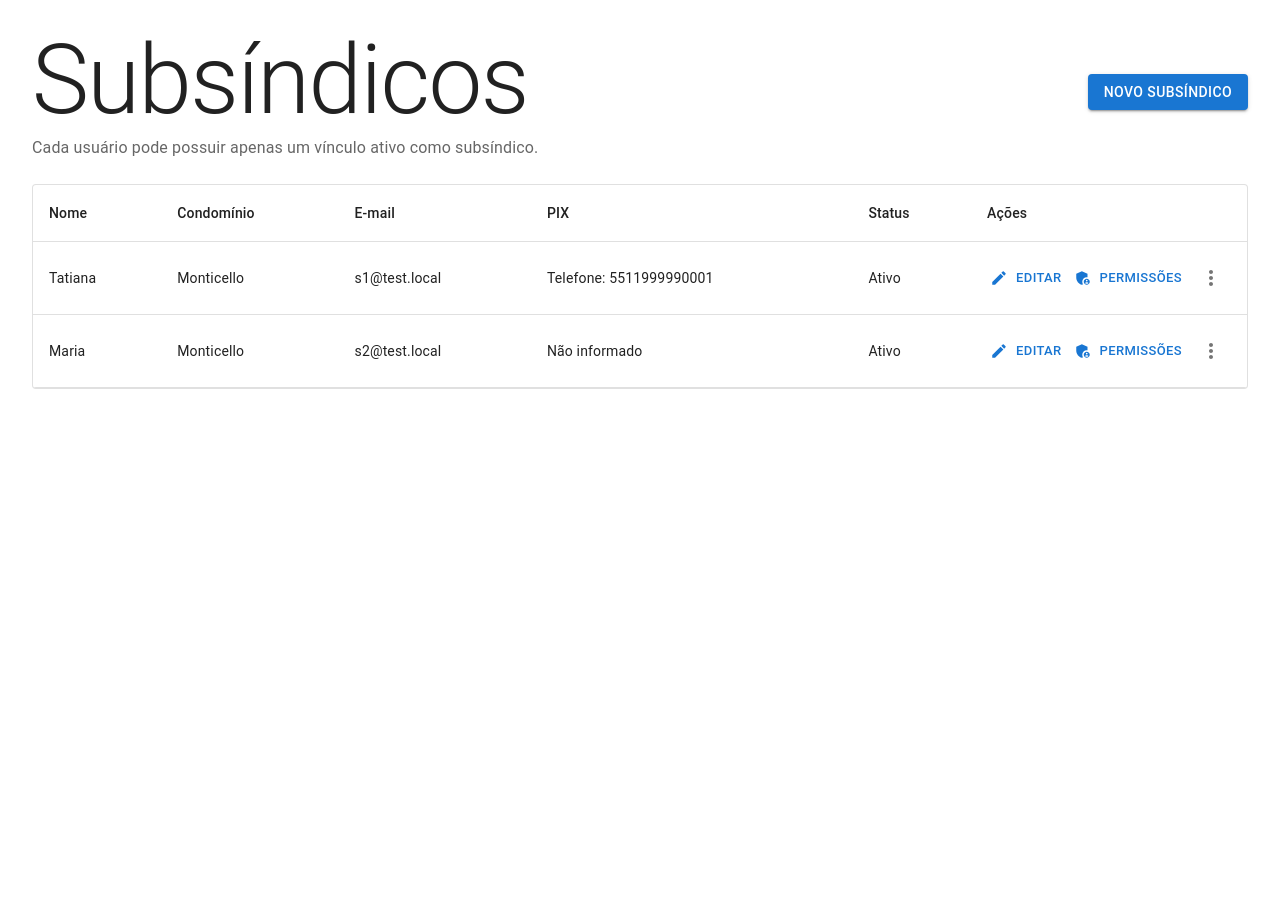
Test case: OverwatchSubManagersPage row isolation › does not delete a row rejected by eligibility
Expected: the text "Tatiana" is shown, x1=33 y1=242 x2=161 y2=314
Step 1. Click the button named "Mais" → (1211, 278), box x1=1191 y1=258 x2=1231 y2=298
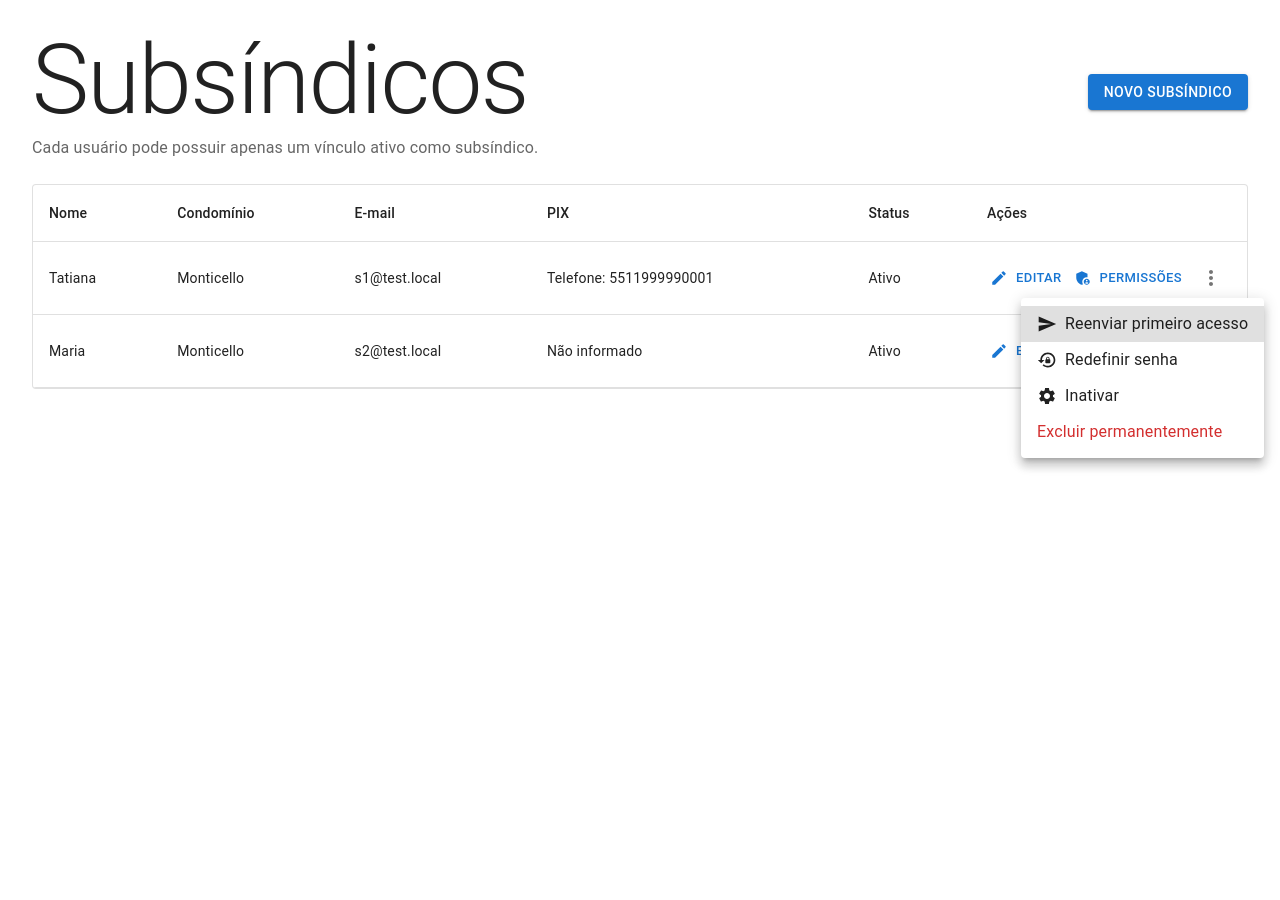
Step 2. Click the menu item "Excluir permanentemente" → (1130, 432), box x1=1037 y1=422 x2=1222 y2=441
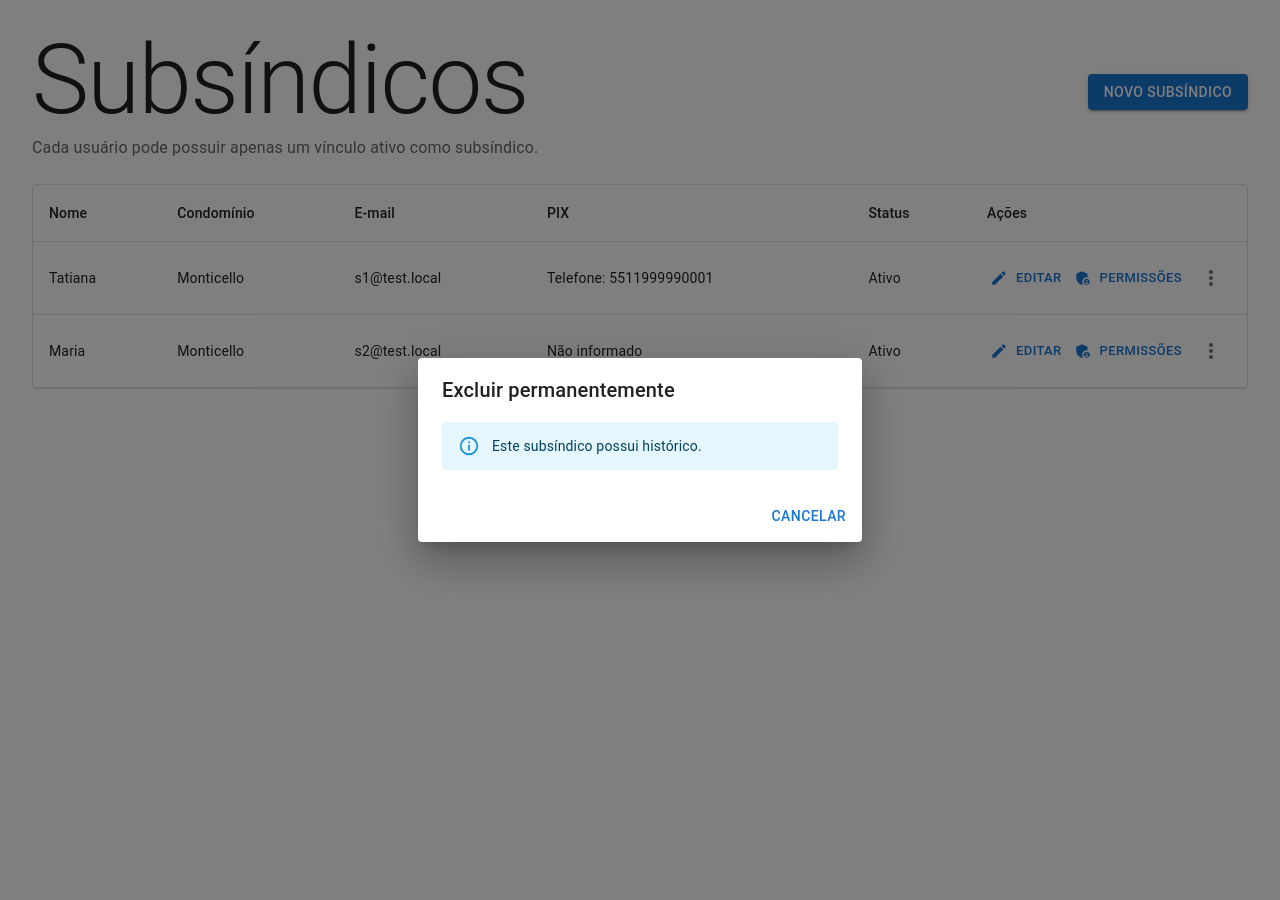
Expected: the text "Este subsíndico possui histórico." is shown, x1=492 y1=438 x2=702 y2=454
